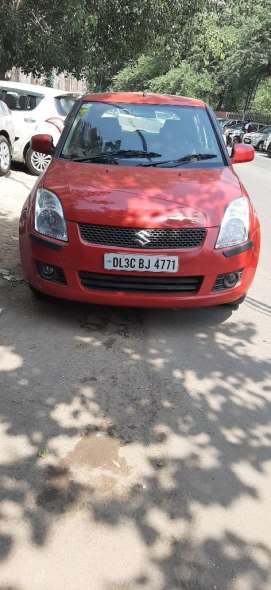license_plate: (99, 253, 195, 274)
